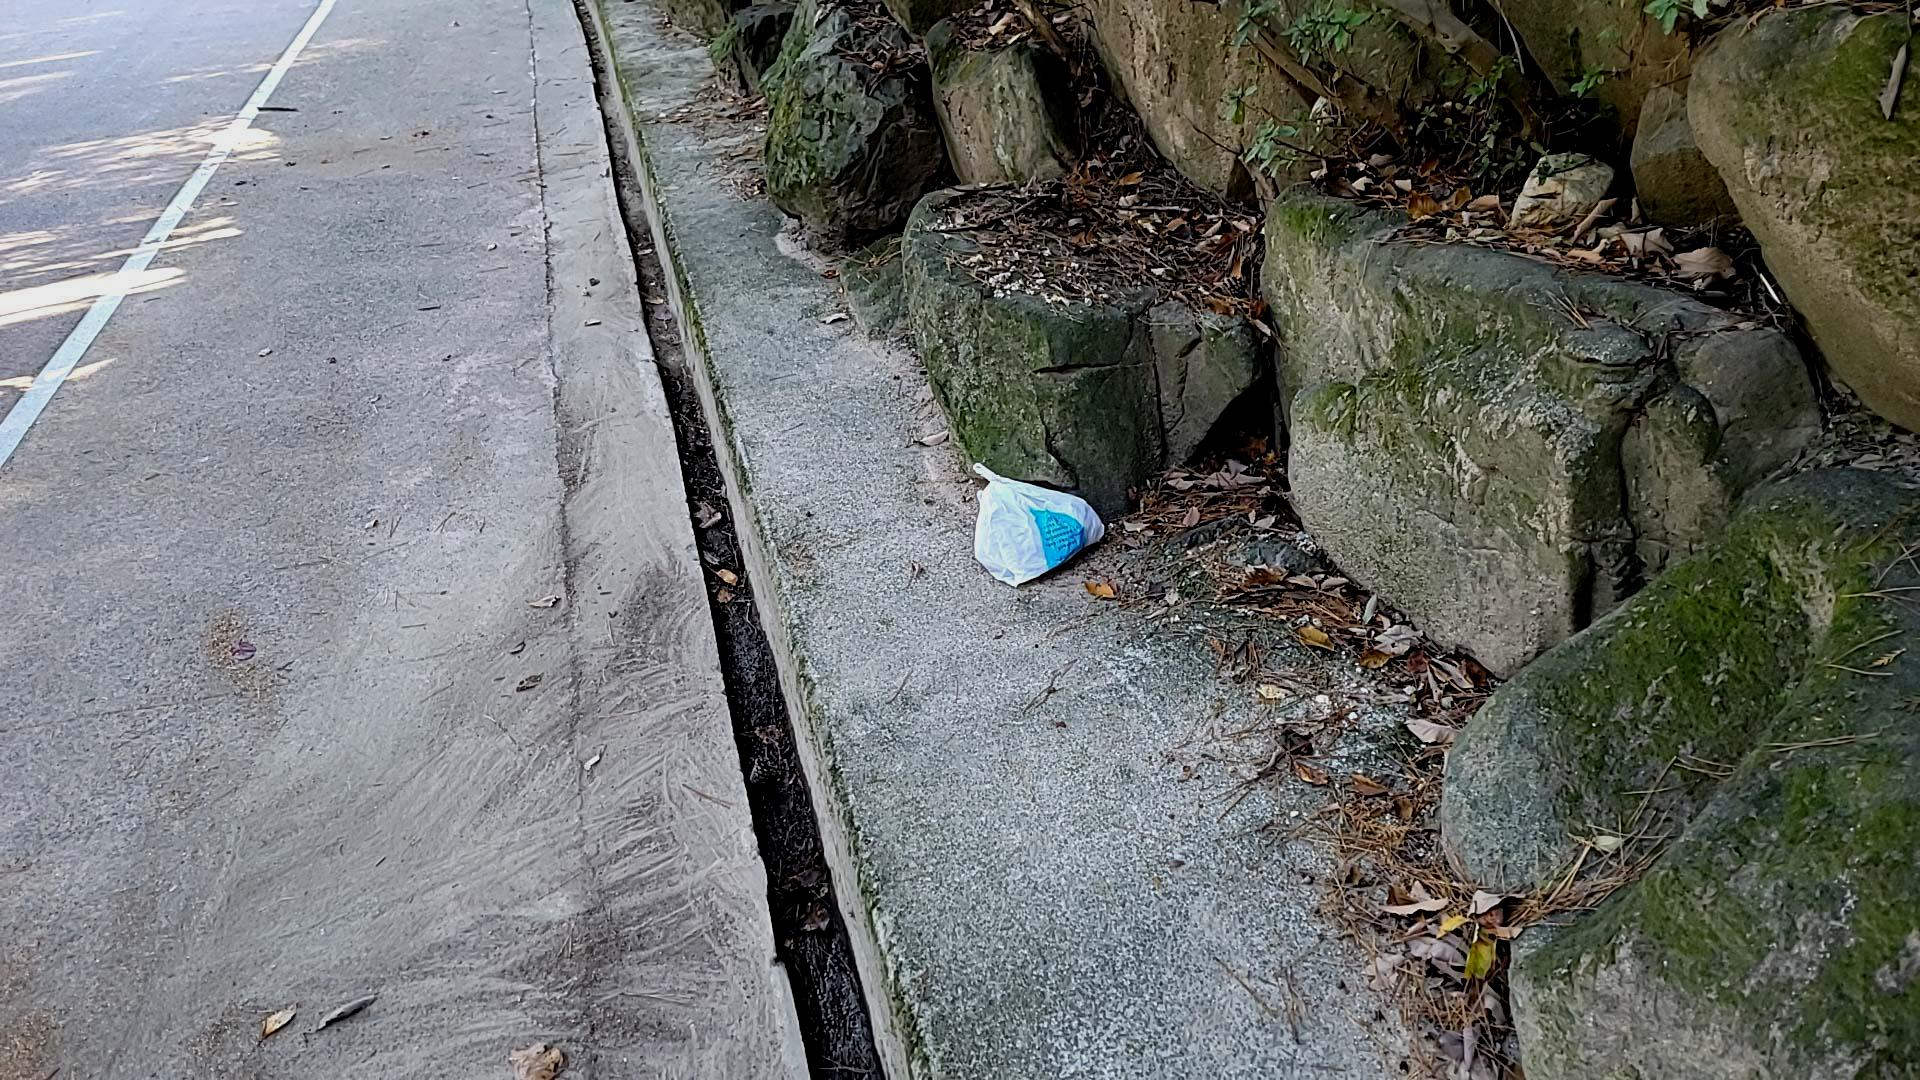white_bag: (959, 455, 1112, 591)
